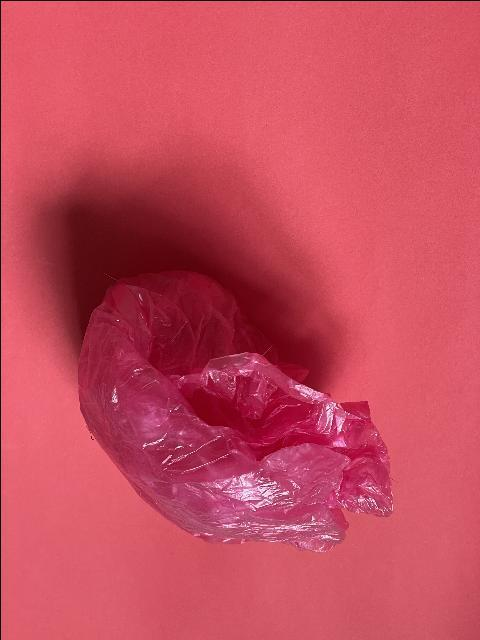plasticbag: (74, 268, 394, 554)
